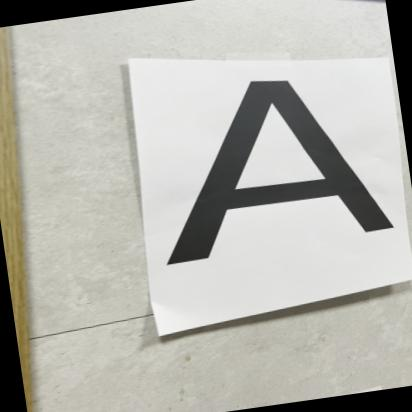seat: (132, 50, 412, 294)
